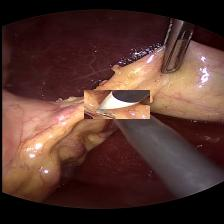Grasper: (151, 28, 197, 74)
Hook: (83, 90, 149, 119)
